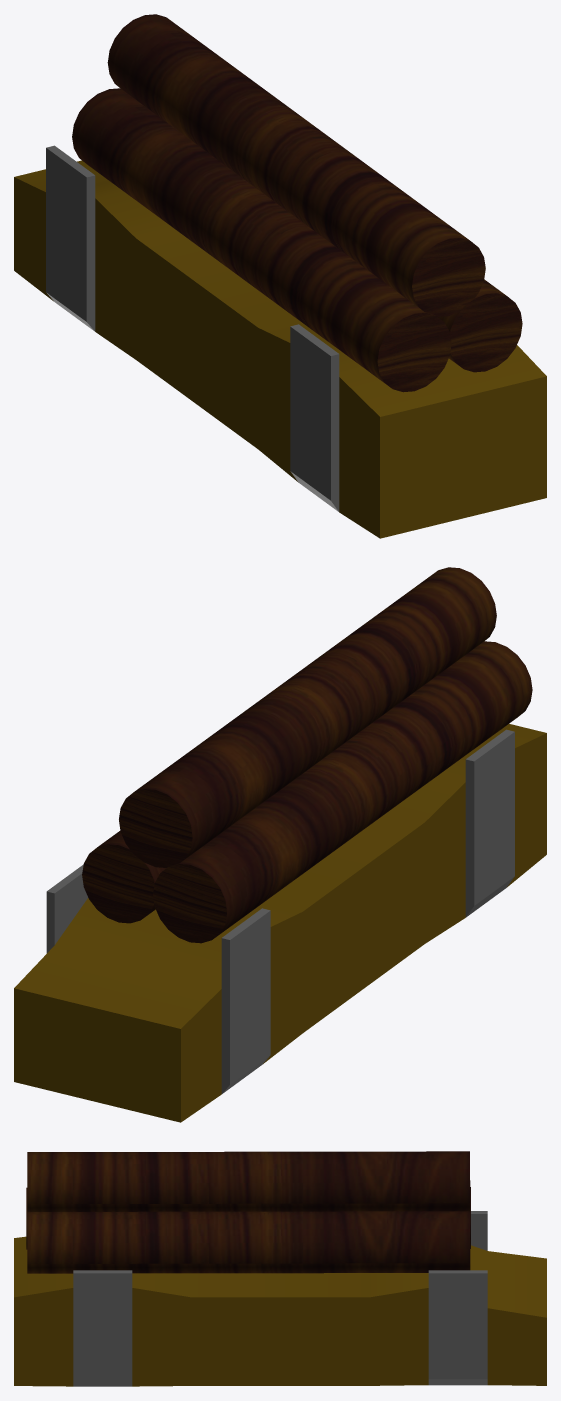
The model's file is Logs.fbx.
3 views of the same model, one above another, from view 1: azimuth 30°, elevation 25°; view 2: azimuth 150°, elevation 25°; view 3: azimuth 270°, elevation 25° (orthographic). The views are drawn at different scales.
Visible parts, largest first — view 1: polySurface5; view 2: polySurface5; view 3: polySurface5.
Boxes of the visible parts, x1,y1,x2,y2 form: polySurface5: (14,14,546,538); polySurface5: (14,567,546,1122); polySurface5: (14,1151,546,1386).
Size of the model in its own units: 1.1 by 1.6 by 3.8.
